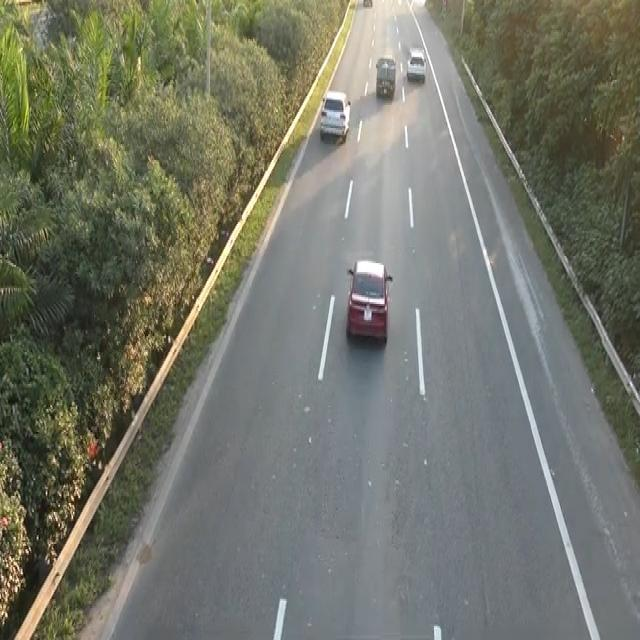bus: (343, 254, 395, 350)
car: (318, 87, 351, 142), (405, 48, 426, 80)
minivan: (374, 53, 396, 98)
